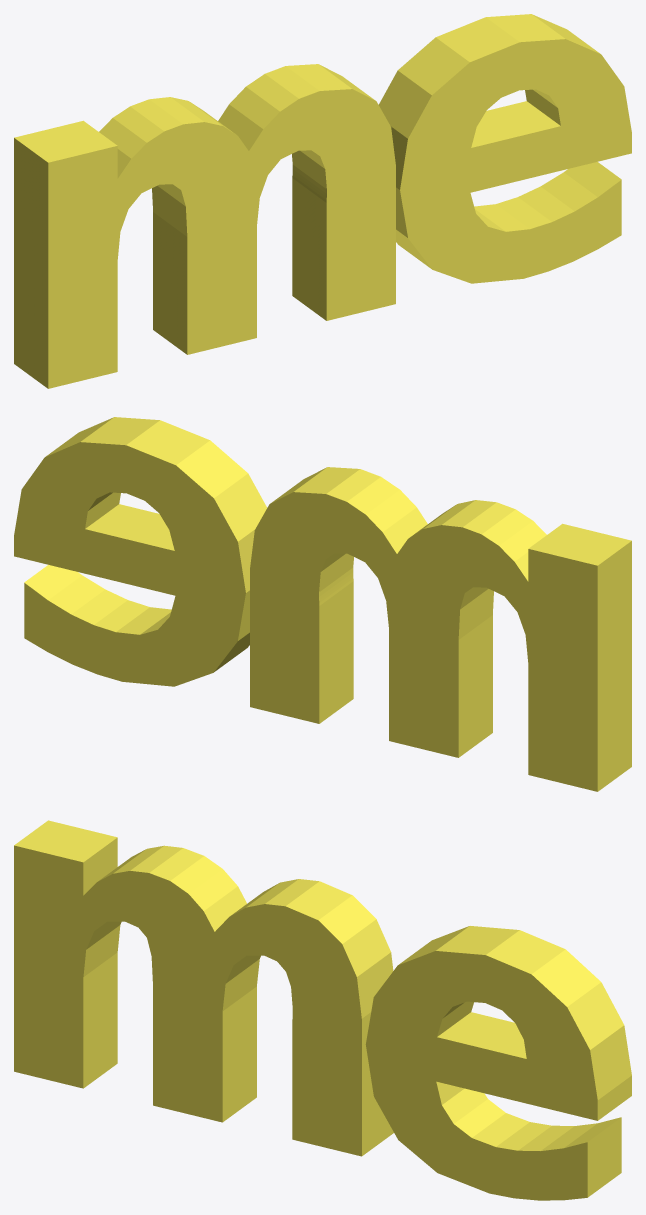
The model's file is suku_kecil_me.glb.
The picture shows the model from 3 angles, top to bottom: view 1: azimuth 30°, elevation 25°; view 2: azimuth 150°, elevation 25°; view 3: azimuth 330°, elevation 25°; orthographic projection.
Visible parts, largest first — view 1: geometry_0; view 2: geometry_0; view 3: geometry_0.
Boxes of the visible parts, bbox=[...] form: geometry_0: bbox=[14, 14, 631, 388]; geometry_0: bbox=[14, 417, 631, 791]; geometry_0: bbox=[14, 820, 631, 1200].
Bounding box in the file's own units: 14.77 × 5.74 × 1.5.
